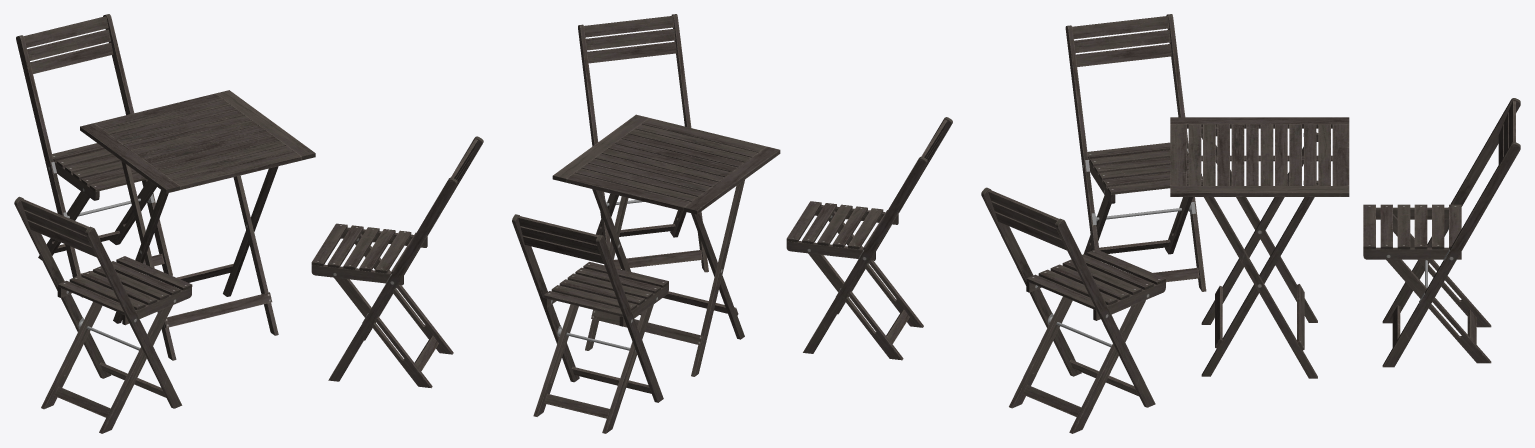
File: caffe-set.glb
The picture shows the model from 3 angles, left to right: view 1: azimuth 30°, elevation 25°; view 2: azimuth 150°, elevation 25°; view 3: azimuth 270°, elevation 25°; orthographic projection. The views are drawn at different scales.
Visible parts, largest first — view 1: table__0, chair003__0, chair1__0, chair2__0; view 2: table__0, chair1__0, chair003__0, chair2__0; view 3: table__0, chair2__0, chair1__0, chair003__0.
Part boxes in pixels (box(x1,y1,x2,y2)): table__0: box(80, 90, 315, 360); chair003__0: box(14, 196, 192, 433); chair1__0: box(16, 14, 172, 297); chair2__0: box(311, 136, 483, 388); table__0: box(552, 114, 780, 376); chair1__0: box(512, 214, 668, 433); chair003__0: box(786, 117, 952, 360); chair2__0: box(578, 14, 708, 272); table__0: box(1170, 117, 1349, 378); chair2__0: box(981, 187, 1165, 433); chair1__0: box(1363, 98, 1520, 367); chair003__0: box(1065, 14, 1206, 291).
Bounding box in the file's own units: 1.67 × 0.826 × 1.81.
Materials: 1 (1 with a texture image).
